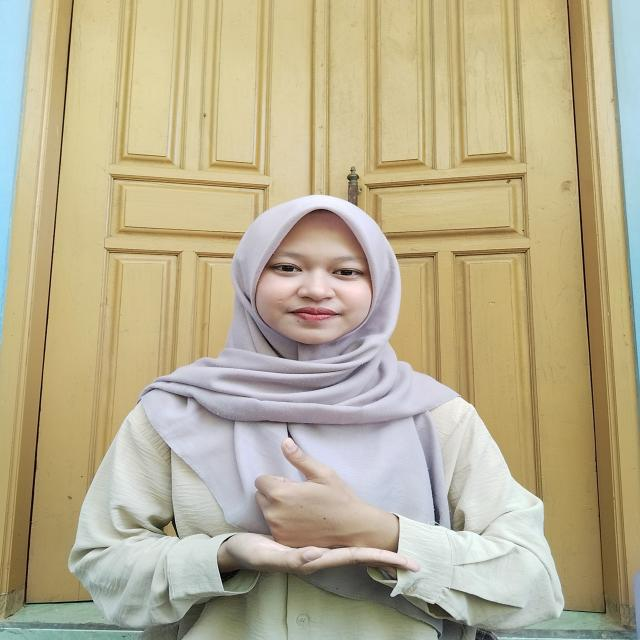cantik: (218, 432, 422, 584)
